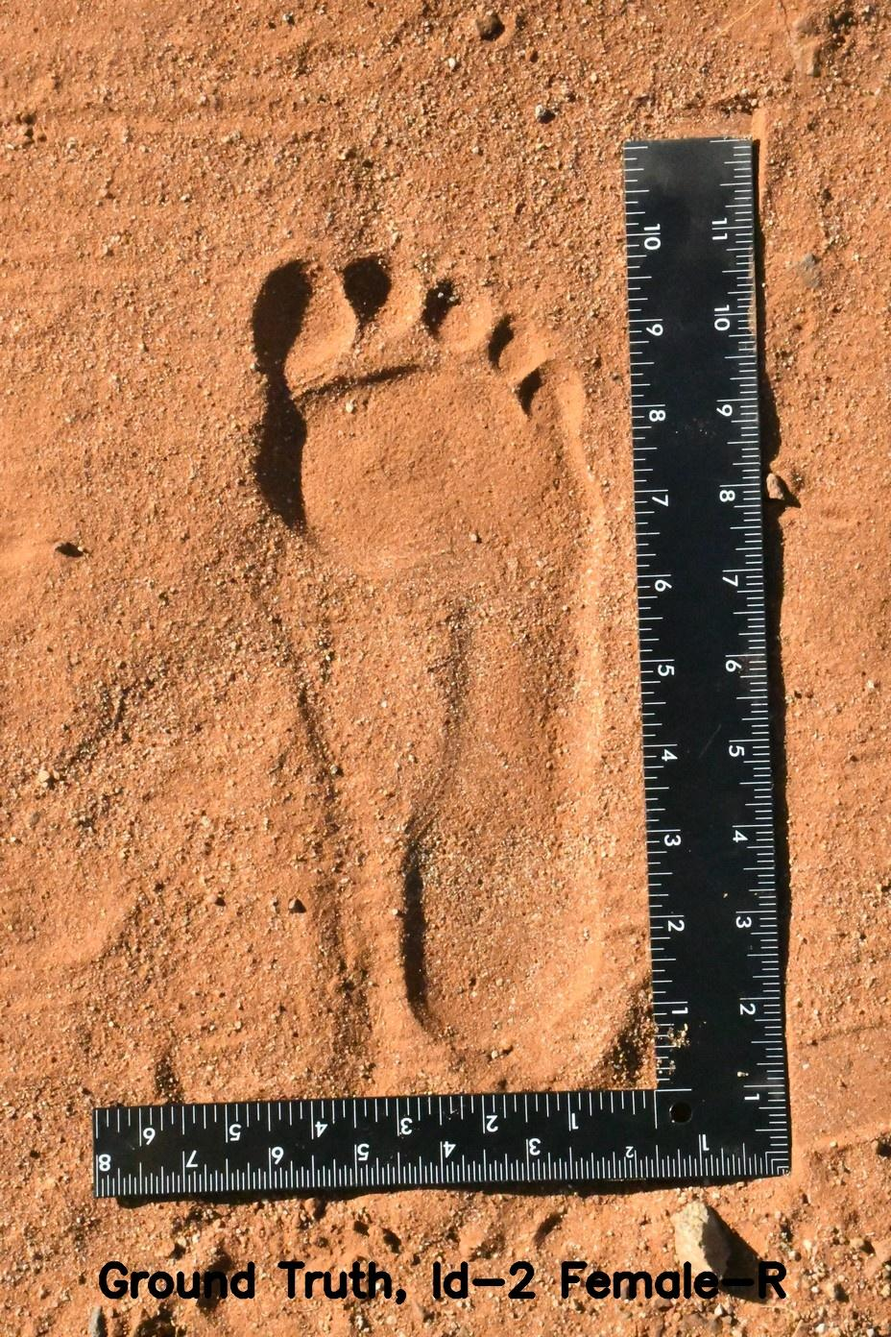human_foot_print: (228, 206, 631, 1079)
